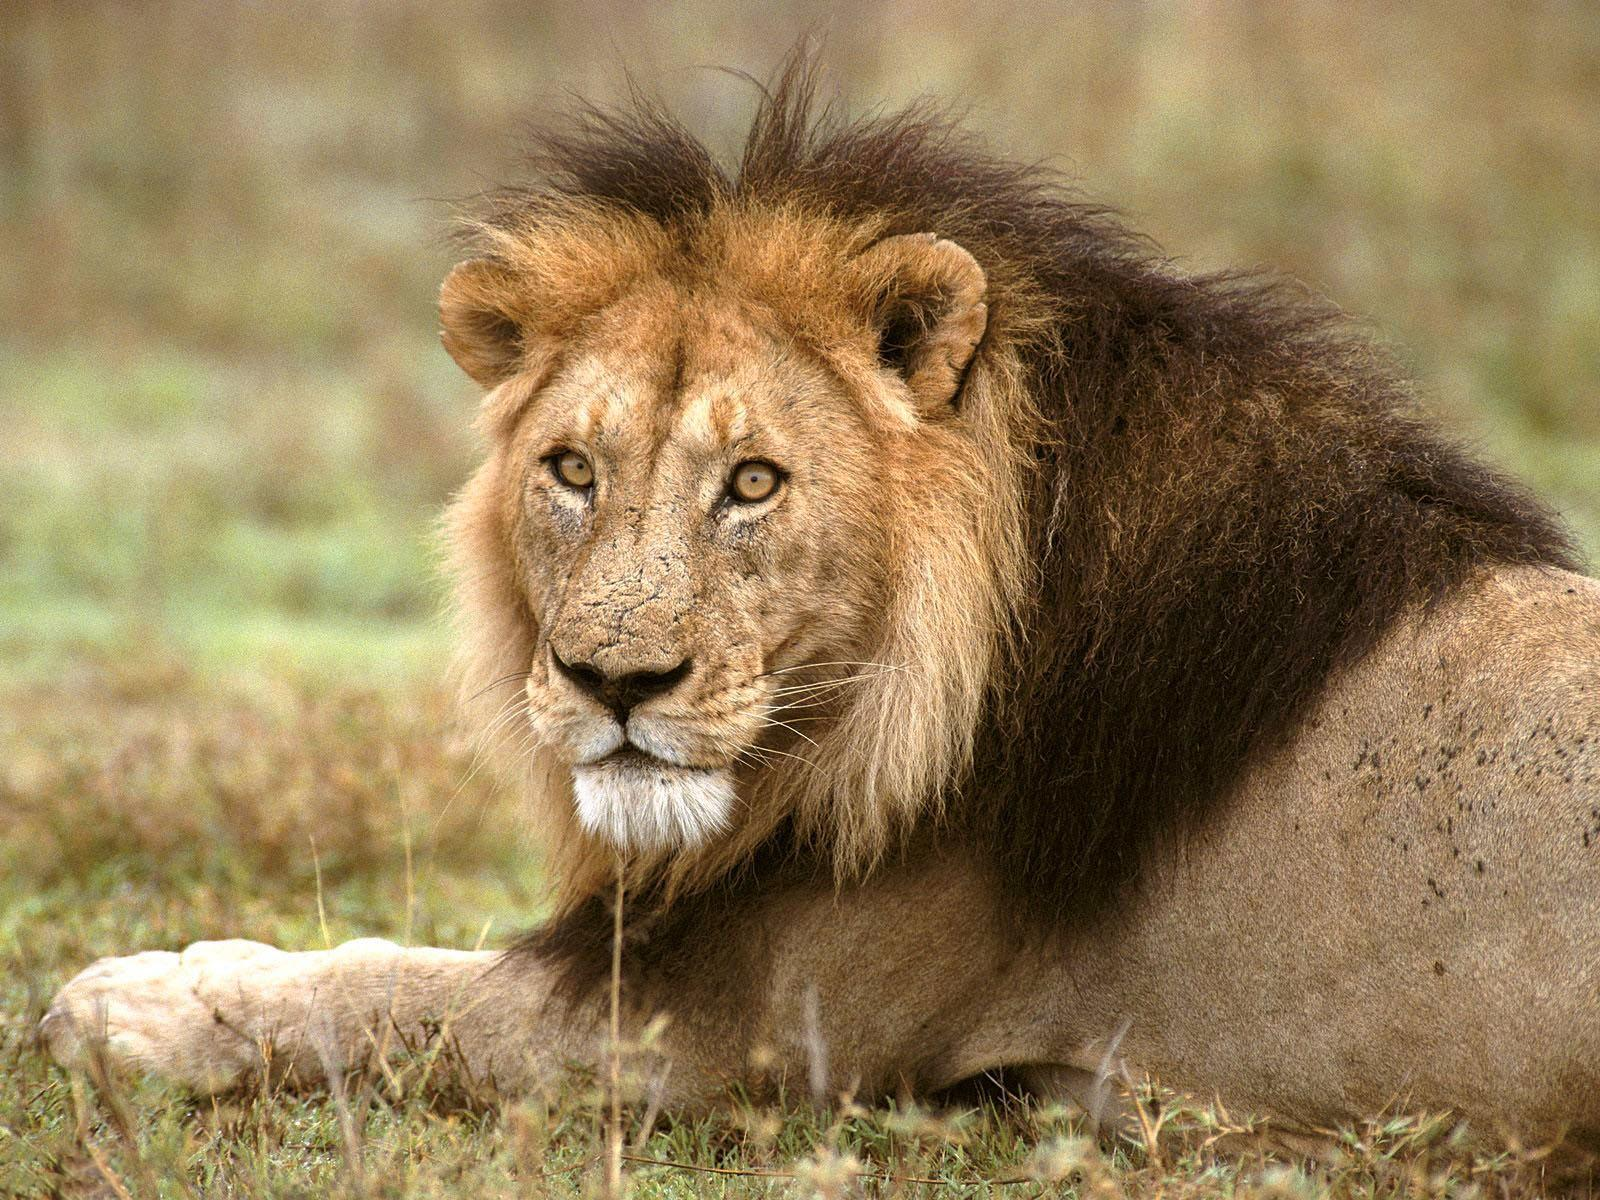lions: (53, 61, 1600, 1200)
